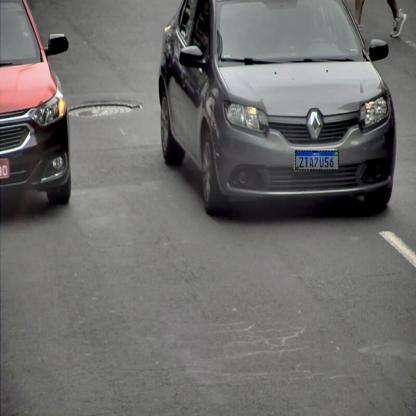PlacaM: (295, 150, 339, 171)
